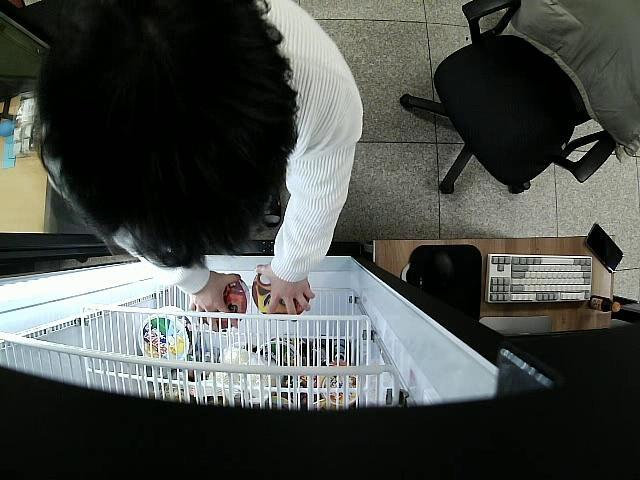05_nuguri_L: (252, 271, 314, 314), (208, 277, 250, 326)
